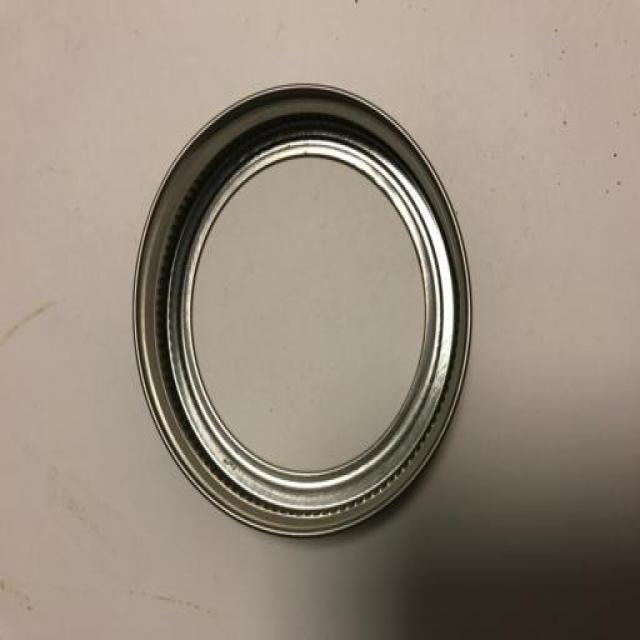metel: (106, 52, 520, 563)
